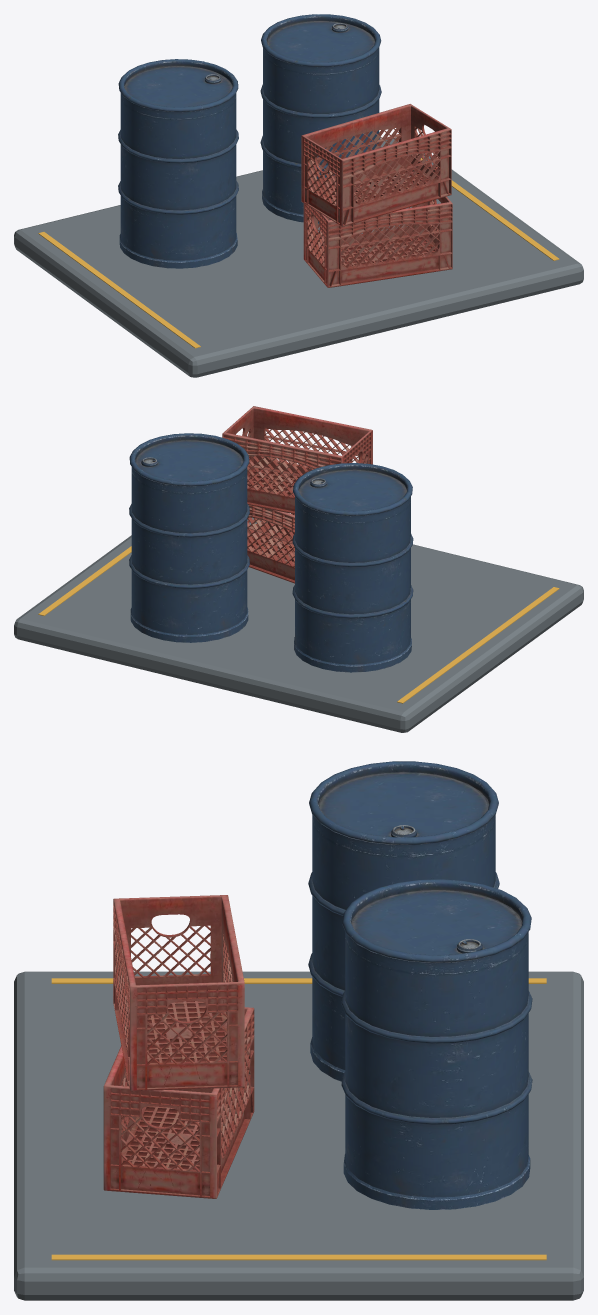
File: props.glb
3 renders of one model, top to bottom at view 1: azimuth 30°, elevation 25°; view 2: azimuth 150°, elevation 25°; view 3: azimuth 270°, elevation 25°, orthographic. The views are drawn at different scales.
Parts seen in each view (by area): view 1: Loading_Pad, Drum_Blue_A, Drum_Blue_B, Crate_Red_Upper, Crate_Red_Lower, Safety_Marking, Safety_Marking.001; view 2: Loading_Pad, Drum_Blue_B, Drum_Blue_A, Crate_Red_Upper, Crate_Red_Lower, Safety_Marking, Safety_Marking.001; view 3: Loading_Pad, Drum_Blue_B, Drum_Blue_A, Crate_Red_Upper, Crate_Red_Lower, Safety_Marking.001, Safety_Marking.
Boxes of the visible parts, box(x1,y1,x2,y2) form: Loading_Pad: box(14, 137, 583, 377); Drum_Blue_A: box(118, 59, 238, 268); Drum_Blue_B: box(260, 14, 381, 223); Crate_Red_Upper: box(301, 104, 451, 226); Crate_Red_Lower: box(303, 178, 452, 287); Safety_Marking: box(38, 232, 200, 348); Safety_Marking.001: box(421, 158, 559, 260); Loading_Pad: box(14, 517, 583, 732); Drum_Blue_B: box(129, 433, 249, 642); Drum_Blue_A: box(292, 463, 413, 672); Crate_Red_Upper: box(222, 406, 372, 514); Crate_Red_Lower: box(247, 482, 294, 583); Safety_Marking: box(397, 587, 559, 703); Safety_Marking.001: box(38, 546, 131, 615); Loading_Pad: box(14, 971, 583, 1300); Drum_Blue_B: box(341, 879, 532, 1209); Drum_Blue_A: box(308, 761, 499, 1081); Crate_Red_Upper: box(113, 895, 244, 1091); Crate_Red_Lower: box(103, 1007, 254, 1198); Safety_Marking.001: box(51, 1254, 546, 1260); Safety_Marking: box(51, 978, 546, 983).
Size of the model in its own units: 2.4 by 1.05 by 1.9.
Materials: 5 (2 with a texture image).
